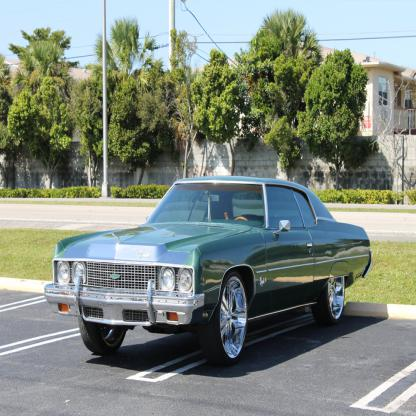Car: (44, 176, 373, 367)
